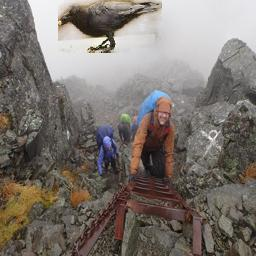Crow: (58, 1, 162, 54)
